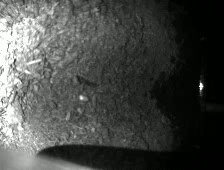corn: (79, 94, 89, 102), (65, 112, 71, 121), (76, 108, 84, 114)
